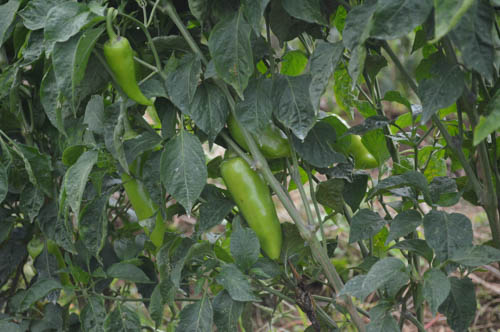ChiliPepper: (222, 160, 286, 263), (334, 101, 383, 173), (103, 39, 154, 107), (227, 117, 293, 161), (120, 168, 158, 218)
